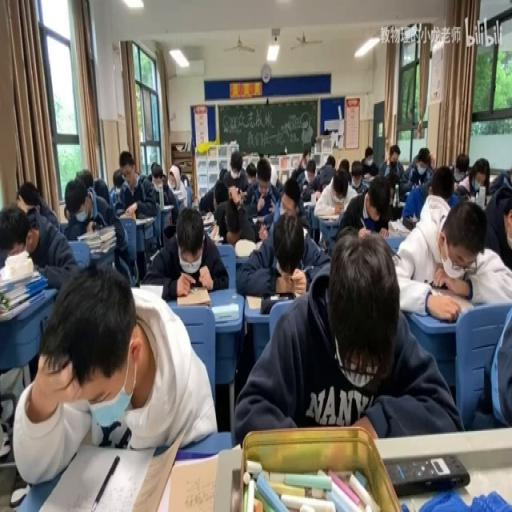calculator: (162, 451, 222, 512), (0, 289, 45, 320), (75, 224, 117, 254), (434, 288, 476, 316), (246, 293, 298, 313), (174, 286, 210, 306), (212, 300, 238, 322), (387, 218, 412, 236), (234, 236, 256, 256), (316, 205, 342, 220), (138, 283, 164, 297), (206, 223, 222, 242), (134, 214, 154, 224), (201, 212, 214, 225), (120, 210, 134, 218), (303, 198, 316, 206), (250, 216, 261, 225), (160, 204, 173, 210), (364, 174, 375, 180)
paper: (234, 230, 458, 446), (13, 263, 211, 484), (393, 190, 509, 313), (2, 192, 80, 292), (144, 206, 227, 299), (468, 290, 510, 430), (336, 173, 394, 239), (115, 151, 159, 232), (274, 169, 315, 238), (211, 186, 256, 245), (76, 165, 109, 212), (160, 161, 186, 219), (402, 145, 434, 192), (456, 155, 490, 199), (302, 157, 332, 199), (222, 146, 249, 190), (380, 142, 406, 185), (253, 154, 278, 189), (429, 165, 454, 199), (486, 166, 512, 196), (358, 145, 378, 178), (333, 223, 358, 245), (150, 162, 164, 189), (294, 168, 308, 189), (112, 166, 124, 190), (244, 162, 256, 184), (214, 192, 228, 210), (337, 158, 349, 175), (299, 151, 310, 168), (218, 165, 228, 182), (108, 185, 117, 203), (180, 170, 190, 186), (325, 155, 334, 169), (429, 152, 435, 168), (63, 206, 69, 222), (426, 184, 432, 194), (509, 169, 512, 183)
person: (386, 452, 470, 496)
